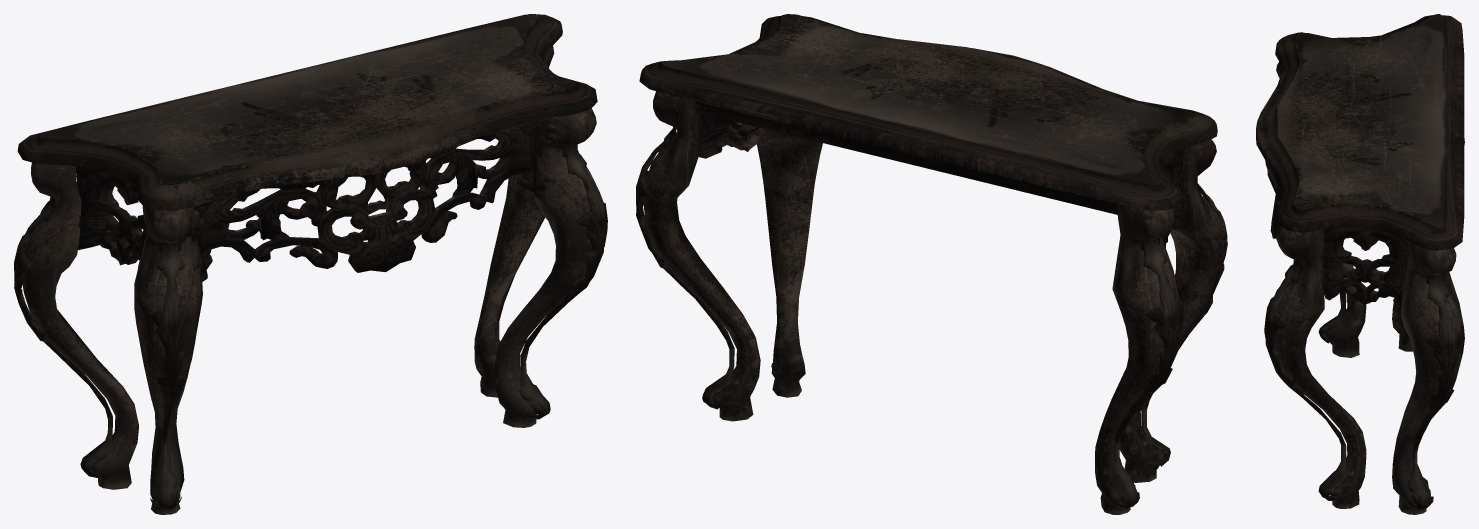
File: ClassicConsole_01.glb
The picture shows the model from 3 angles, left to right: view 1: azimuth 30°, elevation 25°; view 2: azimuth 150°, elevation 25°; view 3: azimuth 270°, elevation 25°; orthographic projection. The views are drawn at different scales.
Visible parts, largest first — view 1: ClassicConsole_01; view 2: ClassicConsole_01; view 3: ClassicConsole_01.
Part boxes in pixels (box(x1,y1,x2,y2)): ClassicConsole_01: box(14, 14, 607, 514); ClassicConsole_01: box(636, 14, 1227, 514); ClassicConsole_01: box(1256, 14, 1464, 514).
Bounding box in the file's own units: 1.54 × 0.9491 × 0.5859.
Materials: 1 (1 with a texture image).
